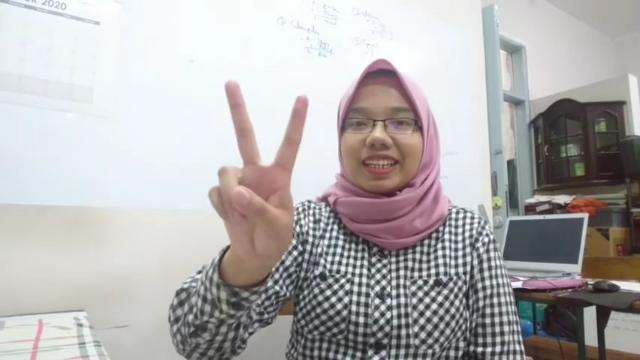V: (203, 74, 315, 264)
